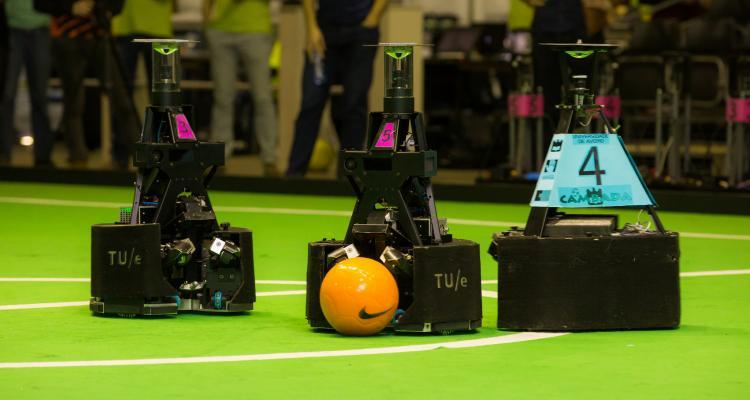robot: (490, 40, 687, 334), (303, 41, 484, 338), (89, 37, 260, 321)
